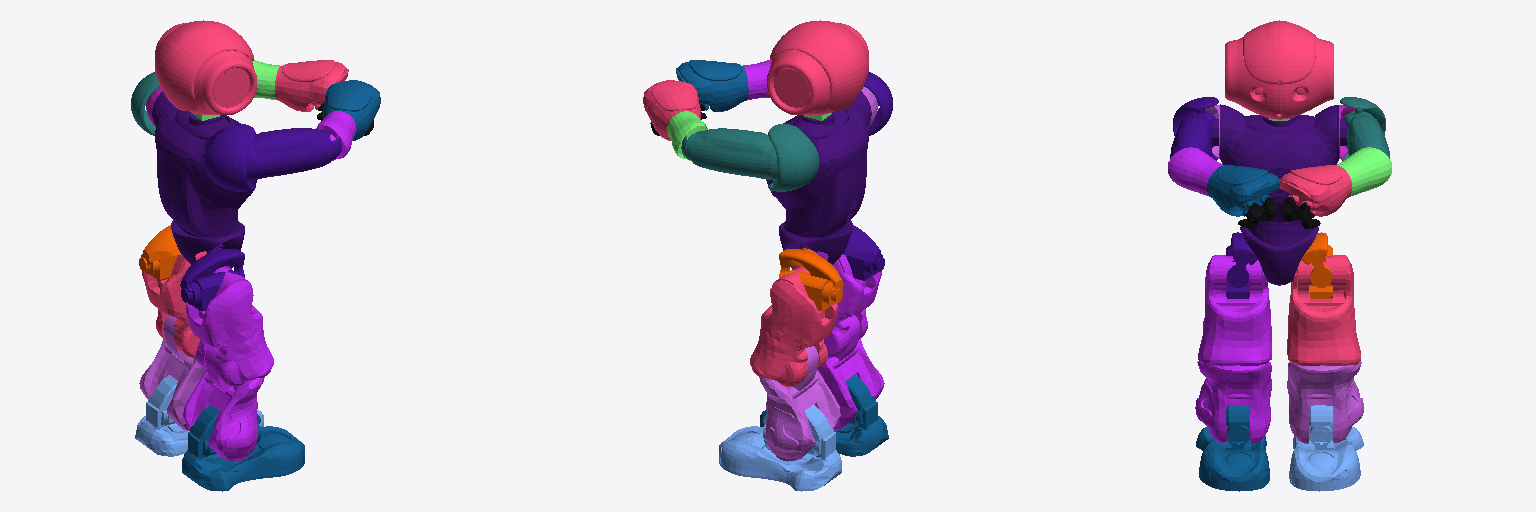
--- What the picture shows (computed from the rendered views, not written in the file) ---
3 views of the same robot in one strip: view 1: azimuth 30°, elevation 25°; view 2: azimuth 150°, elevation 25°; view 3: azimuth 270°, elevation 25° (orthographic).
Model NaoH25V50 with 79 links and 78 joints (42 revolute, 36 fixed), rooted at base_link, posed joints at zero except 2 at the middle of their limits (LElbowRoll = -0.7898, RElbowRoll = 0.7898).
Visible links, largest first — view 1: torso, Head, RBicep, RThigh, r_ankle, RTibia, LTibia, l_wrist, LThigh, r_wrist, l_ankle, RPelvis (+7 smaller); view 2: torso, Head, LBicep, LThigh, l_ankle, LTibia, RTibia, r_wrist, RThigh, l_wrist, r_ankle, LPelvis (+7 smaller); view 3: torso, Head, LThigh, RThigh, RTibia, LTibia, l_ankle, r_ankle, l_wrist, r_wrist, LBicep, RBicep (+5 smaller).
Boxes of the visible links, left/top/right/bottom form: torso: left=152, top=91, right=256, bottom=268; Head: left=155, top=20, right=256, bottom=114; RBicep: left=205, top=124, right=341, bottom=191; RThigh: left=186, top=266, right=273, bottom=386; r_ankle: left=182, top=424, right=304, bottom=491; RTibia: left=183, top=346, right=264, bottom=461; LTibia: left=139, top=315, right=205, bottom=430; l_wrist: left=275, top=60, right=348, bottom=111; LThigh: left=142, top=251, right=206, bottom=357; r_wrist: left=323, top=80, right=380, bottom=140; l_ankle: left=135, top=395, right=263, bottom=456; RPelvis: left=180, top=248, right=244, bottom=304; torso: left=766, top=91, right=871, bottom=268; Head: left=767, top=20, right=868, bottom=114; LBicep: left=681, top=124, right=819, bottom=191; LThigh: left=750, top=266, right=837, bottom=386; l_ankle: left=719, top=424, right=841, bottom=491; LTibia: left=759, top=346, right=840, bottom=461; RTibia: left=818, top=315, right=884, bottom=430; r_wrist: left=676, top=60, right=748, bottom=111; RThigh: left=817, top=251, right=881, bottom=357; l_wrist: left=643, top=80, right=700, bottom=140; r_ankle: left=760, top=396, right=888, bottom=456; LPelvis: left=779, top=248, right=843, bottom=304; torso: left=1212, top=104, right=1347, bottom=285; Head: left=1225, top=20, right=1333, bottom=119; LThigh: left=1287, top=255, right=1360, bottom=365; RThigh: left=1198, top=255, right=1271, bottom=365; RTibia: left=1195, top=361, right=1271, bottom=443; LTibia: left=1287, top=361, right=1363, bottom=443; l_ankle: left=1289, top=426, right=1363, bottom=491; r_ankle: left=1196, top=426, right=1269, bottom=491; l_wrist: left=1280, top=165, right=1352, bottom=216; r_wrist: left=1207, top=165, right=1279, bottom=216; LBicep: left=1340, top=97, right=1389, bottom=160; RBicep: left=1170, top=97, right=1218, bottom=160.
Size in the robot's own frame: 0.2792 by 0.2719 by 0.5738 metres.
Meshes: 39 distinct files referenced, 39 mesh visuals loaded (39 OBJ).

URDF robot description (NaoH25V50):
<?xml version="1.0" ?>
<!-- =================================================================================== -->
<!-- |    This document was autogenerated by xacro from nao_robot.xacro                | -->
<!-- |    EDITING THIS FILE BY HAND IS NOT RECOMMENDED                                 | -->
<!-- =================================================================================== -->
<!--******************************************************************
 ****** File automatically generated by generate_urdf.py script ******
 *********************************************************************-->
<robot name="NaoH25V50" xmlns:xacro="http://www.ros.org/wiki/xacro">
<!-- Import Rviz   <material name="Grey"/>
</visual>s -->
<material name="Grey">
  <color rgba="0.1 0.1 0.1 .4"/>
</material>
<material name="Orange">
  <color rgba="1.0 0.423529411765 0.0392156862745 1.0"/>
</material>
<material name="Blue">
<color rgba="0.5 0.7 1.0 1.0"/>
</material>

<material name="c1">
<color rgba="0.5 1.0 .5 1.0"/>
</material>

<material name="c2">
<color rgba="1 .3 .5 1.0"/>
</material>

<material name="c3">
<color rgba=".8 .4 .9 1.0"/>
</material>

<material name="c4">
<color rgba=".3 .1 .6 1.0"/>
</material>

<material name="c5">
<color rgba=".8 .2 1.0 1.0"/>
</material>


<material name="c6">
<color rgba=".1 .4 .6 1.0"/>
</material>

<material name="c7">
<color rgba=".3 .1 .5 1.0"/>
</material>

<material name="c8">
<color rgba=".8 .2 .8 1.0"/>
</material>

<material name="c9">
<color rgba=".2 .5 .5 1.0"/>
</material>
  <joint name="HeadYaw" type="revolute">
    <parent link="torso"/>
    <child link="Neck"/>
    <origin rpy="0 0 0" xyz="0 0 0.1265"/>
    <axis xyz="0 0 1.0"/>
    <limit effort="1.547" lower="-2.08567" upper="2.08567" velocity="8.26797"/>
  </joint>
  <link name="Neck">
    <inertial>
      <mass value="0.07842"/>
      <inertia ixx="1.60324e-05" ixy="1.57e-09" ixz="3.16276e-09" iyy="1.70394e-05" iyz="-5.295e-08" izz="5.53372e-06"/>
      <origin rpy="0 0 0" xyz="-1e-05 0 -0.02742"/>
    </inertial>
    <visual>
      <geometry>
        <mesh filename="meshes/HeadYaw.obj" scale="0.1 0.1 0.1"/>
      </geometry>
      <origin rpy="0 0 0" xyz="0 0 0"/>
      <material name="c1"/>
    </visual>
    <collision>
      <geometry>
        <mesh filename="meshes/HeadYaw.obj" scale="0.1 0.1 0.1"/>
      </geometry>
      <origin rpy="0 0 0" xyz="0 0 0"/>
    </collision>
  </link>
  <joint name="HeadPitch" type="revolute">
    <parent link="Neck"/>
    <child link="Head"/>
    <origin rpy="0 0 0" xyz="0 0 0"/>
    <axis xyz="0 1.0 0"/>
    <limit effort="1.532" lower="-0.671952" upper="0.514872" velocity="7.19407"/>
  </joint>
  <link name="Head">
    <inertial>
      <mass value="0.60533"/>
      <inertia ixx="0.000957766" ixy="8.78814e-06" ixz="5.33702e-06" iyy="0.000816836" iyz="-2.99579e-05" izz="0.000984976"/>
      <origin rpy="0 0 0" xyz="-0.00112 0 0.05258"/>
    </inertial>
    <visual>
      <geometry>
        <mesh filename="meshes/HeadPitch.obj" scale="0.1 0.1 0.1"/>
      </geometry>
      <origin rpy="0 0 0" xyz="0 0 0"/>
      <material name="c2"/>
    </visual>
    <collision>
      <geometry>
        <mesh filename="meshes/HeadPitch_0.10.stl" scale="0.1 0.1 0.1"/>
      </geometry>
      <origin rpy="0 0 0" xyz="0 0 0"/>
    </collision>
  </link>
  <joint name="gaze_joint" type="fixed">
    <parent link="Head"/>
    <child link="gaze"/>
    <origin rpy="0 0 0" xyz="0.05871 0 0.06364"/>
  </joint>
  <link name="gaze">
    <inertial>
      <mass value="0"/>
      <inertia ixx="0" ixy="0" ixz="0" iyy="0" iyz="0" izz="0"/>
      <origin rpy="0 0 0" xyz="0 0 0"/>
    </inertial>
  </link>
  <joint name="LHipYawPitch" type="revolute">
    <parent link="torso"/>
    <child link="LPelvis"/>
    <origin rpy="0 0 0" xyz="0 0.05 -0.085"/>
    <axis xyz="0 0.707106 -0.707106"/>
    <limit effort="3.348" lower="-1.14529" upper="0.740718" velocity="4.16174"/>
  </joint>
  <link name="LPelvis">
    <inertial>
      <mass value="0.06981"/>
      <inertia ixx="2.3407e-05" ixy="1.07922e-06" ixz="-1.76003e-06" iyy="4.76355e-05" iyz="2.76058e-06" izz="4.97021e-05"/>
      <origin rpy="0 0 0" xyz="-0.00781 -0.01114 0.02661"/>
    </inertial>
    <visual>
      <geometry>
        <mesh filename="meshes/LHipYawPitch.obj" scale="0.1 0.1 0.1"/>
      </geometry>
      <origin rpy="0 0 0" xyz="0 0 0"/>
      <material name="Orange"/>
    </visual>
    <collision>
      <geometry>
        <mesh filename="meshes/LHipYawPitch.obj" scale="0.1 0.1 0.1"/>
      </geometry>
      <origin rpy="0 0 0" xyz="0 0 0"/>
    </collision>
  </link>
  <joint name="LHipRoll" type="revolute">
    <parent link="LPelvis"/>
    <child link="LHip"/>
    <origin rpy="0 0 0" xyz="0 0 0"/>
    <axis xyz="1.0 0 0"/>
    <limit effort="3.348" lower="-0.379435" upper="0.79046" velocity="4.16174"/>
  </joint>
  <link name="LHip">
    <inertial>
      <mass value="0.14053"/>
      <inertia ixx="2.38445e-05" ixy="-6.53605e-07" ixz="7.12893e-06" iyy="6.08246e-05" iyz="-2.14072e-07" izz="5.43691e-05"/>
      <origin rpy="0 0 0" xyz="-0.01549 0.00029 -0.00515"/>
    </inertial>
    <visual>
      <geometry>
        <mesh filename="meshes/LHipRoll.obj" scale="0.1 0.1 0.1"/>
      </geometry>
      <origin rpy="0 0 0" xyz="0 0 0"/>
      <material name="Orange"/>
    </visual>
    <collision>
      <geometry>
        <mesh filename="meshes/LHipRoll_0.10.stl" scale="0.1 0.1 0.1"/>
      </geometry>
      <origin rpy="0 0 0" xyz="0 0 0"/>
    </collision>
  </link>
  <joint name="LHipPitch" type="revolute">
    <parent link="LHip"/>
    <child link="LThigh"/>
    <origin rpy="0 0 0" xyz="0 0 0"/>
    <axis xyz="0 1.0 0"/>
    <limit effort="3.023" lower="-1.53589" upper="0.48398" velocity="6.40239"/>
  </joint>
  <link name="LThigh">
    <inertial>
      <mass value="0.38968"/>
      <inertia ixx="0.000509844" ixy="2.11296e-06" ixz="5.64129e-05" iyy="0.000465358" iyz="-7.91029e-06" izz="0.000301098"/>
      <origin rpy="0 0 0" xyz="0.00138 0.00221 -0.05373"/>
    </inertial>
    <visual>
      <geometry>
        <mesh filename="meshes/LHipPitch.obj" scale="0.1 0.1 0.1"/>
      </geometry>
      <origin rpy="0 0 0" xyz="0 0 0"/>
      <material name="c2"/>
    </visual>
    <collision>
      <geometry>
        <mesh filename="meshes/LHipPitch_0.10.stl" scale="0.1 0.1 0.1"/>
      </geometry>
      <origin rpy="0 0 0" xyz="0 0 0"/>
    </collision>
  </link>
  <joint name="LKneePitch" type="revolute">
    <parent link="LThigh"/>
    <child link="LTibia"/>
    <origin rpy="0 0 0" xyz="0 0 -0.1"/>
    <axis xyz="0 1.0 0"/>
    <limit effort="3.023" lower="-0.0923279" upper="2.11255" velocity="6.40239"/>
  </joint>
  <link name="LTibia">
    <inertial>
      <mass value="0.30142"/>
      <inertia ixx="0.000446171" ixy="3.70584e-06" ixz="-3.09008e-05" iyy="0.000388084" iyz="6.01953e-06" izz="0.000185516"/>
      <origin rpy="0 0 0" xyz="0.00453 0.00225 -0.04936"/>
    </inertial>
    <visual>
      <geometry>
        <mesh filename="meshes/LKneePitch.obj" scale="0.1 0.1 0.1"/>
      </geometry>
      <origin rpy="0 0 0" xyz="0 0 0"/>
      <material name="c3"/>
    </visual>
    <collision>
      <geometry>
        <mesh filename="meshes/LKneePitch_0.10.stl" scale="0.1 0.1 0.1"/>
      </geometry>
      <origin rpy="0 0 0" xyz="0 0 0"/>
    </collision>
  </link>
  <joint name="LAnklePitch" type="revolute">
    <parent link="LTibia"/>
    <child link="LAnklePitch"/>
    <origin rpy="0 0 0" xyz="0 0 -0.1029"/>
    <axis xyz="0 1.0 0"/>
    <limit effort="3.023" lower="-1.18944" upper="0.922581" velocity="6.40239"/>
  </joint>
  <link name="LAnklePitch">
    <inertial>
      <mass value="0.13416"/>
      <inertia ixx="3.22034e-05" ixy="-8.83212e-09" ixz="4.27549e-06" iyy="6.7943e-05" iyz="2.84849e-07" izz="5.48269e-05"/>
      <origin rpy="0 0 0" xyz="0.00045 0.00029 0.00685"/>
    </inertial>
    <visual>
      <geometry>
        <mesh filename="meshes/LAnklePitch.obj" scale="0.1 0.1 0.1"/>
      </geometry>
      <origin rpy="0 0 0" xyz="0 0 0"/>
      <material name="Blue"/>
    </visual>
    <collision>
      <geometry>
        <mesh filename="meshes/LAnklePitch_0.10.stl" scale="0.1 0.1 0.1"/>
      </geometry>
      <origin rpy="0 0 0" xyz="0 0 0"/>
    </collision>
  </link>
  <joint name="LAnkleRoll" type="revolute">
    <parent link="LAnklePitch"/>
    <child link="l_ankle"/>
    <origin rpy="0 0 0" xyz="0 0 0"/>
    <axis xyz="1.0 0 0"/>
    <limit effort="3.348" lower="-0.397761" upper="0.768992" velocity="4.16174"/>
  </joint>
  <link name="l_ankle">
    <inertial>
      <mass value="0.17184"/>
      <inertia ixx="8.72911e-05" ixy="8.71925e-06" ixz="-2.10563e-06" iyy="0.000353024" iyz="3.73459e-07" izz="0.000412846"/>
      <origin rpy="0 0 0" xyz="0.02542 0.0033 -0.03239"/>
    </inertial>
    <visual>
      <geometry>
        <mesh filename="meshes/LAnkleRoll.obj" scale="0.1 0.1 0.1"/>
      </geometry>
      <origin rpy="0 0 0" xyz="0 0 0"/>
      <material name="Blue"/>
    </visual>
    <collision>
      <geometry>
        <mesh filename="meshes/LAnkleRoll_0.10.stl" scale="0.1 0.1 0.1"/>
      </geometry>
      <origin rpy="0 0 0" xyz="0 0 0"/>
    </collision>
  </link>
  <joint name="LLeg_effector_fixedjoint" type="fixed">
    <parent link="l_ankle"/>
    <child link="l_sole"/>
    <origin rpy="0 0 0" xyz="0 0 -0.04511"/>
    <axis xyz="0 0 0"/>
  </joint>
  <link name="l_sole">
    <inertial>
      <mass value="0"/>
      <inertia ixx="0" ixy="0" ixz="0" iyy="0" iyz="0" izz="0"/>
      <origin rpy="0 0 0" xyz="0 0 0"/>
    </inertial>
  </link>
  <joint name="RHipYawPitch" type="revolute">
    <parent link="torso"/>
    <child link="RPelvis"/>
    <origin rpy="0 0 0" xyz="0 -0.05 -0.085"/>
    <axis xyz="0 0.707106 0.707106"/>
    <limit effort="3.348" lower="-1.14529" upper="0.740718" velocity="4.16174"/>
    <mimic joint="LHipYawPitch" multiplier="1.0" offset="0"/>
  </joint>
  <link name="RPelvis">
    <inertial>
      <mass value="0.06981"/>
      <inertia ixx="3.18766e-05" ixy="-1.07152e-06" ixz="-1.77295e-06" iyy="5.18361e-05" iyz="-7.00664e-06" izz="5.39657e-05"/>
      <origin rpy="0 0 0" xyz="-0.00781 0.01114 0.02661"/>
    </inertial>
    <visual>
      <geometry>
        <mesh filename="meshes/RHipYawPitch.obj" scale="0.1 0.1 0.1"/>
      </geometry>
      <origin rpy="0 0 0" xyz="0 0 0"/>
      <material name="c4"/>
    </visual>
    <collision>
      <geometry>
        <mesh filename="meshes/RHipYawPitch_0.10.stl" scale="0.1 0.1 0.1"/>
      </geometry>
      <origin rpy="0 0 0" xyz="0 0 0"/>
    </collision>
  </link>
  <joint name="RHipRoll" type="revolute">
    <parent link="RPelvis"/>
    <child link="RHip"/>
    <origin rpy="0 0 0" xyz="0 0 0"/>
    <axis xyz="1.0 0 0"/>
    <limit effort="3.348" lower="-0.79046" upper="0.379435" velocity="4.16174"/>
  </joint>
  <link name="RHip">
    <inertial>
      <mass value="0.14053"/>
      <inertia ixx="2.38475e-05" ixy="6.12085e-07" ixz="7.10235e-06" iyy="6.0824e-05" iyz="2.12392e-07" izz="5.43727e-05"/>
      <origin rpy="0 0 0" xyz="-0.01549 -0.00029 -0.00515"/>
    </inertial>
    <visual>
      <geometry>
        <mesh filename="meshes/RHipRoll.obj" scale="0.1 0.1 0.1"/>
      </geometry>
      <origin rpy="0 0 0" xyz="0 0 0"/>
      <material name="c4"/>
    </visual>
    <collision>
      <geometry>
        <mesh filename="meshes/RHipRoll_0.10.stl" scale="0.1 0.1 0.1"/>
      </geometry>
      <origin rpy="0 0 0" xyz="0 0 0"/>
    </collision>
  </link>
  <joint name="RHipPitch" type="revolute">
    <parent link="RHip"/>
    <child link="RThigh"/>
    <origin rpy="0 0 0" xyz="0 0 0"/>
    <axis xyz="0 1.0 0"/>
    <limit effort="3.0226" lower="-1.53589" upper="0.48398" velocity="6.40239"/>
  </joint>
  <link name="RThigh">
    <inertial>
      <mass value="0.38968"/>
      <inertia ixx="0.000510607" ixy="-2.02799e-06" ixz="5.69893e-05" iyy="0.0004665" iyz="7.09563e-06" izz="0.000301333"/>
      <origin rpy="0 0 0" xyz="0.00138 -0.00221 -0.05373"/>
    </inertial>
    <visual>
      <geometry>
        <mesh filename="meshes/RHipPitch.obj" scale="0.1 0.1 0.1"/>
      </geometry>
      <origin rpy="0 0 0" xyz="0 0 0"/>
      <material name="c5"/>
    </visual>
    <collision>
      <geometry>
        <mesh filename="meshes/RHipPitch_0.10.stl" scale="0.1 0.1 0.1"/>
      </geometry>
      <origin rpy="0 0 0" xyz="0 0 0"/>
    </collision>
  </link>
  <joint name="RKneePitch" type="revolute">
    <parent link="RThigh"/>
    <child link="RTibia"/>
    <origin rpy="0 0 0" xyz="0 0 -0.1"/>
    <axis xyz="0 1.0 0"/>
    <limit effort="3.0226" lower="-0.0923279" upper="2.11255" velocity="6.40239"/>
  </joint>
  <link name="RTibia">
    <inertial>
      <mass value="0.30142"/>
      <inertia ixx="0.000446921" ixy="-3.96872e-06" ixz="-3.94009e-05" iyy="0.000387711" iyz="-5.00034e-06" izz="0.000183741"/>
      <origin rpy="0 0 0" xyz="0.00453 -0.00225 -0.04936"/>
    </inertial>
    <visual>
      <geometry>
        <mesh filename="meshes/RKneePitch.obj" scale="0.1 0.1 0.1"/>
      </geometry>
      <origin rpy="0 0 0" xyz="0 0 0"/>
      <material name="c5"/>
    </visual>
    <collision>
      <geometry>
        <mesh filename="meshes/RKneePitch_0.10.stl" scale="0.1 0.1 0.1"/>
      </geometry>
      <origin rpy="0 0 0" xyz="0 0 0"/>
    </collision>
  </link>
  <joint name="RAnklePitch" type="revolute">
    <parent link="RTibia"/>
    <child link="RAnklePitch"/>
    <origin rpy="0 0 0" xyz="0 0 -0.1029"/>
    <axis xyz="0 1.0 0"/>
    <limit effort="3.0226" lower="-1.1863" upper="0.932006" velocity="6.40239"/>
  </joint>
  <link name="RAnklePitch">
    <inertial>
      <mass value="0.13416"/>
      <inertia ixx="3.22017e-05" ixy="4.68321e-08" ixz="4.28821e-06" iyy="6.79885e-05" iyz="-2.71089e-07" izz="5.48747e-05"/>
      <origin rpy="0 0 0" xyz="0.00045 -0.00029 0.00685"/>
    </inertial>
    <visual>
      <geometry>
        <mesh filename="meshes/RAnklePitch.obj" scale="0.1 0.1 0.1"/>
      </geometry>
      <origin rpy="0 0 0" xyz="0 0 0"/>
      <material name="c6"/>
    </visual>
    <collision>
      <geometry>
        <mesh filename="meshes/RAnklePitch_0.10.stl" scale="0.1 0.1 0.1"/>
      </geometry>
      <origin rpy="0 0 0" xyz="0 0 0"/>
    </collision>
  </link>
  <joint name="RAnkleRoll" type="revolute">
    <parent link="RAnklePitch"/>
    <child link="r_ankle"/>
    <origin rpy="0 0 0" xyz="0 0 0"/>
    <axis xyz="1.0 0 0"/>
    <limit effort="3.348" lower="-0.768992" upper="0.397761" velocity="4.16174"/>
  </joint>
  <link name="r_ankle">
    <inertial>
      <mass value="0.17184"/>
      <inertia ixx="8.71513e-05" ixy="-8.53992e-06" ixz="-2.35184e-06" iyy="0.000352156" iyz="-4.81708e-07" izz="0.000412125"/>
      <origin rpy="0 0 0" xyz="0.02542 -0.0033 -0.03239"/>
    </inertial>
    <visual>
      <geometry>
        <mesh filename="meshes/RAnkleRoll.obj" scale="0.1 0.1 0.1"/>
      </geometry>
      <origin rpy="0 0 0" xyz="0 0 0"/>
      <material name="c6"/>
    </visual>
    <collision>
      <geometry>
        <mesh filename="meshes/RAnkleRoll_0.10.stl" scale="0.1 0.1 0.1"/>
      </geometry>
      <origin rpy="0 0 0" xyz="0 0 0"/>
    </collision>
  </link>
  <joint name="RLeg_effector_fixedjoint" type="fixed">
    <parent link="r_ankle"/>
    <child link="r_sole"/>
    <origin rpy="0 0 0" xyz="0 0 -0.04511"/>
    <axis xyz="0 0 0"/>
  </joint>
  <link name="r_sole">
    <inertial>
      <mass value="0"/>
      <inertia ixx="0" ixy="0" ixz="0" iyy="0" iyz="0" izz="0"/>
      <origin rpy="0 0 0" xyz="0 0 0"/>
    </inertial>
  </link>
  <link name="base_link">
    <inertial>
      <mass value="0.0000000001"/>
      <inertia ixx="0" ixy="0" ixz="0" iyy="0" iyz="0" izz="0"/>
      <origin rpy="0 0 0" xyz="0 0 0"/>
    </inertial>
  </link>
  <joint name="base_link_fixedjoint" type="fixed">
    <parent link="base_link"/>
    <child link="torso"/>
    <origin rpy="0 0 0" xyz="0 0 0"/>
    <axis xyz="0 0 0"/>
  </joint>
  <link name="torso">
    <inertial>
      <mass value="1.04956"/>
      <inertia ixx="0.00308361" ixy="1.43116e-05" ixz="-3.30211e-05" iyy="0.0028835" iyz="-2.70793e-05" izz="0.0015924"/>
      <origin rpy="0 0 0" xyz="-0.00413 0 0.04342"/>
    </inertial>
    <visual>
      <geometry>
        <mesh filename="meshes/Torso.obj" scale="0.1 0.1 0.1"/>
      </geometry>
      <origin rpy="0 0 0" xyz="0 0 0"/>
      <material name="c7"/>
    </visual>
    <collision>
      <geometry>
        <mesh filename="meshes/Torso_0.10.stl" scale="0.1 0.1 0.1"/>
      </geometry>
      <origin rpy="0 0 0" xyz="0 0 0"/>
    </collision>
  </link>
  <joint name="LShoulderPitch" type="revolute">
    <parent link="torso"/>
    <child link="LShoulder"/>
    <origin rpy="0 0 0" xyz="0 0.098 0.1"/>
    <axis xyz="0 1.0 0"/>
    <limit effort="1.329" lower="-2.08567" upper="2.08567" velocity="8.26797"/>
  </joint>
  <link name="LShoulder">
    <inertial>
      <mass value="0.09304"/>
      <inertia ixx="1.83025e-05" ixy="2.06011e-06" ixz="1.88776e-09" iyy="1.39005e-05" iyz="-3.66592e-07" izz="2.01862e-05"/>
      <origin rpy="0 0 0" xyz="-0.00165 -0.02663 0.00014"/>
    </inertial>
    <visual>
      <geometry>
        <mesh filename="meshes/LShoulderPitch.obj" scale="0.1 0.1 0.1"/>
      </geometry>
      <origin rpy="0 0 0" xyz="0 0 0"/>
      <material name="c8"/>
    </visual>
    <collision>
      <geometry>
        <mesh filename="meshes/LShoulderPitch_0.10.stl" scale="0.1 0.1 0.1"/>
      </geometry>
      <origin rpy="0 0 0" xyz="0 0 0"/>
    </collision>
  </link>
  <joint name="LShoulderRoll" type="revolute">
    <parent link="LShoulder"/>
    <child link="LBicep"/>
    <origin rpy="0 0 0" xyz="0 0 0"/>
    <axis xyz="0 0 1.0"/>
    <limit effort="1.7835" lower="-0.314159" upper="1.32645" velocity="7.19407"/>
  </joint>
  <link name="LBicep">
    <inertial>
      <mass value="0.15777"/>
      <inertia ixx="8.7181e-05" ixy="-2.53381e-05" ixz="-1.4213e-05" iyy="0.000274712" iyz="4.71439e-07" izz="0.000241812"/>
      <origin rpy="0 0 0" xyz="0.02455 0.00563 0.0033"/>
    </inertial>
    <visual>
      <geometry>
        <mesh filename="meshes/LShoulderRoll.obj" scale="0.1 0.1 0.1"/>
      </geometry>
      <origin rpy="0 0 0" xyz="0 0 0"/>
      <material name="c9"/>
    </visual>
    <collision>
      <geometry>
        <mesh filename="meshes/LShoulderRoll_0.10.stl" scale="0.1 0.1 0.1"/>
      </geometry>
      <origin rpy="0 0 0" xyz="0 0 0"/>
    </collision>
  </link>
  <joint name="LElbowYaw" type="revolute">
    <parent link="LBicep"/>
    <child link="LElbow"/>
    <origin rpy="0 0 0" xyz="0.105 0.015 0"/>
    <axis xyz="1.0 0 0"/>
    <limit effort="1.547" lower="-2.08567" upper="2.08567" velocity="8.26797"/>
  </joint>
  <link name="LElbow">
    <inertial>
      <mass value="0.06483"/>
      <inertia ixx="5.59588e-06" ixy="4.21e-09" ixz="2.92241e-07" iyy="2.66179e-05" iyz="-1.84e-09" izz="2.76294e-05"/>
      <origin rpy="0 0 0" xyz="-0.02744 0 -0.00014"/>
    </inertial>
  </link>
  <joint name="LElbowRoll" type="revolute">
    <parent link="LElbow"/>
    <child link="LForeArm"/>
    <origin rpy="0 0 0" xyz="0 0 0"/>
    <axis xyz="0 0 1.0"/>
    <limit effort="1.532" lower="-1.54462" upper="-0.0349066" velocity="7.19407"/>
  </joint>
  <link name="LForeArm">
    <inertial>
      <mass value="0.07761"/>
      <inertia ixx="2.46746e-05" ixy="3.23152e-06" ixz="1.58221e-06" iyy="3.83837e-05" iyz="1.39194e-07" izz="3.59708e-05"/>
      <origin rpy="0 0 0" xyz="0.02556 0.00281 0.00076"/>
    </inertial>
    <visual>
      <geometry>
        <mesh filename="meshes/LElbowRoll.obj" scale="0.1 0.1 0.1"/>
      </geometry>
      <origin rpy="0 0 0" xyz="0 0 0"/>
      <material name="c1"/>
    </visual>
    <collision>
      <geometry>
        <mesh filename="meshes/LElbowRoll_0.10.stl" scale="0.1 0.1 0.1"/>
      </geometry>
      <origin rpy="0 0 0" xyz="0 0 0"/>
    </collision>
  </link>
  <joint name="LWristYaw" type="revolute">
    <parent link="LForeArm"/>
    <child link="l_wrist"/>
    <origin rpy="0 0 0" xyz="0.05595 0 0"/>
    <axis xyz="1.0 0 0"/>
    <limit effort="0.4075" lower="-1.82387" upper="1.82387" velocity="24.6229"/>
  </joint>
  <link name="l_wrist">
    <inertial>
      <mass value="0.18533"/>
      <inertia ixx="6.86477e-05" ixy="1.15465e-07" ixz="-2.87254e-06" iyy="0.000135756" iyz="2.67539e-06" izz="0.000133228"/>
      <origin rpy="0 0 0" xyz="0.03434 -0.00088 0.00308"/>
    </inertial>
    <visual>
      <geometry>
        <mesh filename="meshes/LWristYaw.obj" scale="0.1 0.1 0.1"/>
      </geometry>
      <origin rpy="0 0 0" xyz="0 0 0"/>
      <material name="c2"/>
    </visual>
    <collision>
      <geometry>
        <mesh filename="meshes/LWristYaw_0.10.stl" scale="0.1 0.1 0.1"/>
      </geometry>
      <origin rpy="0 0 0" xyz="0 0 0"/>
    </collision>
  </link>
  <joint name="LHand" type="revolute">
    <parent link="l_wrist"/>
    <child link="l_gripper"/>
    <origin rpy="0 0 0" xyz="0.05775 0 -0.01231"/>
    <axis xyz="1.0 0 0"/>
    <limit effort="0.292" lower="0" upper="1.0" velocity="8.33"/>
  </joint>
  <link name="l_gripper">
    <inertial>
      <mass value="2e-06"/>
      <inertia ixx="1.1e-09" ixy="0" ixz="0" iyy="1.1e-09" iyz="0" izz="1.1e-09"/>
    </inertial>
  </link>
  <joint name="RShoulderPitch" type="revolute">
    <parent link="torso"/>
    <child link="RShoulder"/>
    <origin rpy="0 0 0" xyz="0 -0.098 0.1"/>
    <axis xyz="0 1.0 0"/>
    <limit effort="1.329" lower="-2.08567" upper="2.08567" velocity="8.26797"/>
  </joint>
  <link name="RShoulder">
    <inertial>
      <mass value="0.09304"/>
      <inertia ixx="1.83025e-05" ixy="-2.06011e-06" ixz="1.88776e-09" iyy="1.39005e-05" iyz="3.66592e-07" izz="2.01862e-05"/>
      <origin rpy="0 0 0" xyz="-0.00165 0.02663 0.00014"/>
    </inertial>
    <visual>
      <geometry>
        <mesh filename="meshes/RShoulderPitch.obj" scale="0.1 0.1 0.1"/>
      </geometry>
      <origin rpy="0 0 0" xyz="0 0 0"/>
      <material name="c3"/>
    </visual>
    <collision>
      <geometry>
        <mesh filename="meshes/RShoulderPitch_0.10.stl" scale="0.1 0.1 0.1"/>
      </geometry>
      <origin rpy="0 0 0" xyz="0 0 0"/>
    </collision>
  </link>
  <joint name="RShoulderRoll" type="revolute">
    <parent link="RShoulder"/>
    <child link="RBicep"/>
    <origin rpy="0 0 0" xyz="0 0 0"/>
    <axis xyz="0 0 1.0"/>
    <limit effort="1.783" lower="-1.32645" upper="0.314159" velocity="7.19407"/>
  </joint>
  <link name="RBicep">
    <inertial>
      <mass value="0.15777"/>
      <inertia ixx="0.000103401" ixy="5.48849e-05" ixz="-1.32643e-05" iyy="0.00027077" iyz="9.16707e-06" izz="0.000254529"/>
      <origin rpy="0 0 0" xyz="0.02455 -0.00563 0.0033"/>
    </inertial>
    <visual>
      <geometry>
        <mesh filename="meshes/RShoulderRoll.obj" scale="0.1 0.1 0.1"/>
      </geometry>
      <origin rpy="0 0 0" xyz="0 0 0"/>
      <material name="c4"/>
    </visual>
    <collision>
      <geometry>
        <mesh filename="meshes/RShoulderRoll_0.10.stl" scale="0.1 0.1 0.1"/>
      </geometry>
      <origin rpy="0 0 0" xyz="0 0 0"/>
    </collision>
  </link>
  <joint name="RElbowYaw" type="revolute">
    <parent link="RBicep"/>
    <child link="RElbow"/>
    <origin rpy="0 0 0" xyz="0.105 -0.015 0"/>
    <axis xyz="1.0 0 0"/>
    <limit effort="1.547" lower="-2.08567" upper="2.08567" velocity="8.26797"/>
  </joint>
  <link name="RElbow">
    <inertial>
      <mass value="0.06483"/>
      <inertia ixx="5.59588e-06" ixy="4.21e-09" ixz="2.92241e-07" iyy="2.66179e-05" iyz="-1.84e-09" izz="2.76294e-05"/>
      <origin rpy="0 0 0" xyz="-0.02744 0 -0.00014"/>
    </inertial>
  </link>
  <joint name="RElbowRoll" type="revolute">
    <parent link="RElbow"/>
    <child link="RForeArm"/>
    <origin rpy="0 0 0" xyz="0 0 0"/>
    <axis xyz="0 0 1.0"/>
    <limit effort="1.532" lower="0.0349066" upper="1.54462" velocity="7.19407"/>
  </joint>
  <link name="RForeArm">
    <inertial>
      <mass value="0.07761"/>
      <inertia ixx="2.47331e-05" ixy="-3.2418e-06" ixz="9.06451e-07" iyy="3.84719e-05" iyz="-1.38804e-07" izz="3.59319e-05"/>
      <origin rpy="0 0 0" xyz="0.02556 -0.00281 0.00076"/>
    </inertial>
    <visual>
      <geometry>
        <mesh filename="meshes/RElbowRoll.obj" scale="0.1 0.1 0.1"/>
      </geometry>
      <origin rpy="0 0 0" xyz="0 0 0"/>
      <material name="c5"/>
    </visual>
    <collision>
      <geometry>
        <mesh filename="meshes/RElbowRoll_0.10.stl" scale="0.1 0.1 0.1"/>
      </geometry>
      <origin rpy="0 0 0" xyz="0 0 0"/>
    </collision>
  </link>
  <joint name="RWristYaw" type="revolute">
    <parent link="RForeArm"/>
    <child link="r_wrist"/>
    <origin rpy="0 0 0" xyz="0.05595 0 0"/>
    <axis xyz="1.0 0 0"/>
    <limit effort="0.4075" lower="-1.82387" upper="1.82387" velocity="24.6229"/>
  </joint>
  <link name="r_wrist">
    <inertial>
      <mass value="0.18533"/>
      <inertia ixx="6.86477e-05" ixy="1.13165e-05" ixz="-2.87254e-06" iyy="0.000135756" iyz="3.68003e-06" izz="0.000133228"/>
      <origin rpy="0 0 0" xyz="0.03434 0.00088 0.00308"/>
    </inertial>
    <visual>
      <geometry>
        <mesh filename="meshes/RWristYaw.obj" scale="0.1 0.1 0.1"/>
      </geometry>
      <origin rpy="0 0 0" xyz="0 0 0"/>
      <material name="c6"/>
    </visual>
    <collision>
      <geometry>
        <mesh filename="meshes/RWristYaw_0.10.stl" scale="0.1 0.1 0.1"/>
      </geometry>
      <origin rpy="0 0 0" xyz="0 0 0"/>
    </collision>
  </link>
  <joint name="RHand" type="revolute">
    <parent link="r_wrist"/>
    <child link="r_gripper"/>
    <origin rpy="0 0 0" xyz="0.05775 0 -0.01213"/>
    <axis xyz="1.0 0 0"/>
    <limit effort="0.292" lower="0" upper="1.0" velocity="8.33"/>
  </joint>
  <link name="r_gripper">
    <inertial>
      <mass value="2e-06"/>
      <inertia ixx="1.1e-09" ixy="0" ixz="0" iyy="1.1e-09" iyz="0" izz="1.1e-09"/>
    </inertial>
  </link>
  <link name="LFootBumperRight_frame">
    <inertial>
      <mass value="0"/>
      <inertia ixx="0" ixy="0" ixz="0" iyy="0" iyz="0" izz="0"/>
      <origin rpy="0 0 0" xyz="0 0 0"/>
    </inertial>
  </link>
  <joint name="LFoot/Bumper/Right_sensor_fixedjoint" type="fixed">
    <parent link="l_ankle"/>
    <child link="LFootBumperRight_frame"/>
    <origin rpy="0 0 0" xyz="0.0876 -0.014 -0.0353"/>
    <axis xyz="0 0 0"/>
  </joint>
  <link name="RFsrRL_frame">
    <collision>
      <geometry>
        <box size="0.01 0.01 0.005"/>
      </geometry>
      <origin rpy="0 0 0" xyz="0 0 0"/>
    </collision>
    <inertial>
      <mass value="2e-06"/>
      <inertia ixx="1.1e-09" ixy="0" ixz="0" iyy="1.1e-09" iyz="0" izz="1.1e-09"/>
    </inertial>
  </link>
  <joint name="RFoot/FSR/RearLeft_sensor_fixedjoint" type="fixed">
    <parent link="r_ankle"/>
    <child link="RFsrRL_frame"/>
    <origin rpy="0 0 0" xyz="-0.03025 0.0191 -0.04511"/>
    <axis xyz="0 0 0"/>
  </joint>
  <link name="CameraBottom_optical_frame">
    <inertial>
      <mass value="0"/>
      <inertia ixx="0" ixy="0" ixz="0" iyy="0" iyz="0" izz="0"/>
      <origin rpy="0 0 0" xyz="0 0 0"/>
    </inertial>
  </link>
  <joint name="CameraBottom_optical_frame_fixedjoint" type="fixed">
    <parent link="CameraBottom_frame"/>
    <child link="CameraBottom_optical_frame"/>
    <origin rpy="-1.57079632679 0 -1.57079632679" xyz="0 0 0"/>
  </joint>
  <link name="RFsrRR_frame">
    <collision>
      <geometry>
        <box size="0.01 0.01 0.005"/>
      </geometry>
      <origin rpy="0 0 0" xyz="0 0 0"/>
    </collision>
    <inertial>
      <mass value="2e-06"/>
      <inertia ixx="1.1e-09" ixy="0" ixz="0" iyy="1.1e-09" iyz="0" izz="1.1e-09"/>
    </inertial>
  </link>
  <joint name="RFoot/FSR/RearRight_sensor_fixedjoint" type="fixed">
    <parent link="r_ankle"/>
    <child link="RFsrRR_frame"/>
    <origin rpy="0 0 0" xyz="-0.02965 -0.0299 -0.04511"/>
    <axis xyz="0 0 0"/>
  </joint>
  <link name="LFsrFR_frame">
    <collision>
      <geometry>
        <box size="0.01 0.01 0.005"/>
      </geometry>
      <origin rpy="0 0 0" xyz="0 0 0"/>
    </collision>
    <inertial>
      <mass value="2e-06"/>
      <inertia ixx="1.1e-09" ixy="0" ixz="0" iyy="1.1e-09" iyz="0" izz="1.1e-09"/>
    </inertial>
  </link>
  <joint name="LFoot/FSR/FrontRight_sensor_fixedjoint" type="fixed">
    <parent link="l_ankle"/>
    <child link="LFsrFR_frame"/>
    <origin rpy="0 0 0" xyz="0.07025 -0.0231 -0.04511"/>
    <axis xyz="0 0 0"/>
  </joint>
  <link name="LHandTouchLeft_frame">
    <inertial>
      <mass value="0"/>
      <inertia ixx="0" ixy="0" ixz="0" iyy="0" iyz="0" izz="0"/>
      <origin rpy="0 0 0" xyz="0 0 0"/>
    </inertial>
  </link>
  <joint name="LHand/Touch/Left_sensor_fixedjoint" type="fixed">
    <parent link="l_wrist"/>
    <child link="LHandTouchLeft_frame"/>
    <origin rpy="0 0 1.5708" xyz="0.032 0.025 0.003"/>
    <axis xyz="0 0 0"/>
  </joint>
  <link name="RFootBumperRight_frame">
    <inertial>
      <mass value="0"/>
      <inertia ixx="0" ixy="0" ixz="0" iyy="0" iyz="0" izz="0"/>
      <origin rpy="0 0 0" xyz="0 0 0"/>
    </inertial>
  </link>
  <joint name="RFoot/Bumper/Right_sensor_fixedjoint" type="fixed">
    <parent link="r_ankle"/>
    <child link="RFootBumperRight_frame"/>
    <origin rpy="0 0 0" xyz="0.0876 -0.019 -0.0353"/>
    <axis xyz="0 0 0"/>
  </joint>
  <link name="RFsrFR_frame">
    <collision>
      <geometry>
        <box size="0.01 0.01 0.005"/>
      </geometry>
      <origin rpy="0 0 0" xyz="0 0 0"/>
    </collision>
    <inertial>
      <mass value="2e-06"/>
      <inertia ixx="1.1e-09" ixy="0" ixz="0" iyy="1.1e-09" iyz="0" izz="1.1e-09"/>
    </inertial>
  </link>
  <joint name="RFoot/FSR/FrontRight_sensor_fixedjoint" type="fixed">
    <parent link="r_ankle"/>
    <child link="RFsrFR_frame"/>
    <origin rpy="0 0 0" xyz="0.07025 -0.0299 -0.04511"/>
    <axis xyz="0 0 0"/>
  </joint>
  <link name="LFsrRR_frame">
    <collision>
      <geometry>
        <box size="0.01 0.01 0.005"/>
      </geometry>
      <origin rpy="0 0 0" xyz="0 0 0"/>
    </collision>
    <inertial>
      <mass value="2e-06"/>
      <inertia ixx="1.1e-09" ixy="0" ixz="0" iyy="1.1e-09" iyz="0" izz="1.1e-09"/>
    </inertial>
  </link>
  <joint name="LFoot/FSR/RearRight_sensor_fixedjoint" type="fixed">
    <parent link="l_ankle"/>
    <child link="LFsrRR_frame"/>
    <origin rpy="0 0 0" xyz="-0.02965 -0.0191 -0.04511"/>
    <axis xyz="0 0 0"/>
  </joint>
  <link name="ImuTorsoAccelerometer_frame">
    <inertial>
      <mass value="0"/>
      <inertia ixx="0" ixy="0" ixz="0" iyy="0" iyz="0" izz="0"/>
      <origin rpy="0 0 0" xyz="0 0 0"/>
    </inertial>
  </link>
  <joint name="Accelerometer_sensor_fixedjoint" type="fixed">
    <parent link="torso"/>
    <child link="ImuTorsoAccelerometer_frame"/>
    <origin rpy="0 0 0" xyz="-0.008 0.00606 0.027"/>
    <axis xyz="0 0 0"/>
  </joint>
  <link name="HeadTouchFront_frame">
    <inertial>
      <mass value="0"/>
      <inertia ixx="0" ixy="0" ixz="0" iyy="0" iyz="0" izz="0"/>
      <origin rpy="0 0 0" xyz="0 0 0"/>
    </inertial>
  </link>
  <joint name="Head/Touch/Front_sensor_fixedjoint" type="fixed">
    <parent link="Head"/>
    <child link="HeadTouchFront_frame"/>
    <origin rpy="0 -1.1861 0" xyz="0.0312 0 0.1014"/>
    <axis xyz="0 0 0"/>
  </joint>
  <link name="RFootBumperLeft_frame">
    <inertial>
      <mass value="0"/>
      <inertia ixx="0" ixy="0" ixz="0" iyy="0" iyz="0" izz="0"/>
      <origin rpy="0 0 0" xyz="0 0 0"/>
    </inertial>
  </link>
  <joint name="RFoot/Bumper/Left_sensor_fixedjoint" type="fixed">
    <parent link="r_ankle"/>
    <child link="RFootBumperLeft_frame"/>
    <origin rpy="0 0 0" xyz="0.0876 0.014 -0.0353"/>
    <axis xyz="0 0 0"/>
  </joint>
  <link name="RSonar_frame">
    <inertial>
      <mass value="0"/>
      <inertia ixx="0" ixy="0" ixz="0" iyy="0" iyz="0" izz="0"/>
      <origin rpy="0 0 0" xyz="0 0 0"/>
    </inertial>
  </link>
  <joint name="Sonar/Right_sensor_fixedjoint" type="fixed">
    <parent link="torso"/>
    <child link="RSonar_frame"/>
    <origin rpy="0.00478508 0.0436497 -0.392441" xyz="0.00558253 -0.0192068 0.0623853"/>
    <axis xyz="0 0 0"/>
  </joint>
  <link name="RHandTouchRight_frame">
    <inertial>
      <mass value="0"/>
      <inertia ixx="0" ixy="0" ixz="0" iyy="0" iyz="0" izz="0"/>
      <origin rpy="0 0 0" xyz="0 0 0"/>
    </inertial>
  </link>
  <joint name="RHand/Touch/Right_sensor_fixedjoint" type="fixed">
    <parent link="r_wrist"/>
    <child link="RHandTouchRight_frame"/>
    <origin rpy="0 0 -1.5708" xyz="0.035 -0.025 0.0035"/>
    <axis xyz="0 0 0"/>
  </joint>
  <link name="RHandTouchBack_frame">
    <inertial>
      <mass value="0"/>
      <inertia ixx="0" ixy="0" ixz="0" iyy="0" iyz="0" izz="0"/>
      <origin rpy="0 0 0" xyz="0 0 0"/>
    </inertial>
  </link>
  <joint name="RHand/Touch/Back_sensor_fixedjoint" type="fixed">
    <parent link="r_wrist"/>
    <child link="RHandTouchBack_frame"/>
    <origin rpy="3.14159 -1.5708 3.14159" xyz="0.038 0 0.025"/>
    <axis xyz="0 0 0"/>
  </joint>
  <link name="RFsrFL_frame">
    <collision>
      <geometry>
        <box size="0.01 0.01 0.005"/>
      </geometry>
      <origin rpy="0 0 0" xyz="0 0 0"/>
    </collision>
    <inertial>
      <mass value="2e-06"/>
      <inertia ixx="1.1e-09" ixy="0" ixz="0" iyy="1.1e-09" iyz="0" izz="1.1e-09"/>
    </inertial>
  </link>
  <joint name="RFoot/FSR/FrontLeft_sensor_fixedjoint" type="fixed">
    <parent link="r_ankle"/>
    <child link="RFsrFL_frame"/>
    <origin rpy="0 0 0" xyz="0.07025 0.0231 -0.04511"/>
    <axis xyz="0 0 0"/>
  </joint>
  <link name="LSonar_frame">
    <inertial>
      <mass value="0"/>
      <inertia ixx="0" ixy="0" ixz="0" iyy="0" iyz="0" izz="0"/>
      <origin rpy="0 0 0" xyz="0 0 0"/>
    </inertial>
  </link>
  <joint name="Sonar/Left_sensor_fixedjoint" type="fixed">
    <parent link="torso"/>
    <child link="LSonar_frame"/>
    <origin rpy="-0.00478508 0.0436497 0.392441" xyz="0.00558253 0.0192068 0.0623853"/>
    <axis xyz="0 0 0"/>
  </joint>
  <link name="LFsrFL_frame">
    <collision>
      <geometry>
        <box size="0.01 0.01 0.005"/>
      </geometry>
      <origin rpy="0 0 0" xyz="0 0 0"/>
    </collision>
    <inertial>
      <mass value="2e-06"/>
      <inertia ixx="1.1e-09" ixy="0" ixz="0" iyy="1.1e-09" iyz="0" izz="1.1e-09"/>
    </inertial>
  </link>
  <joint name="LFoot/FSR/FrontLeft_sensor_fixedjoint" type="fixed">
    <parent link="l_ankle"/>
    <child link="LFsrFL_frame"/>
    <origin rpy="0 0 0" xyz="0.07025 0.0299 -0.04511"/>
    <axis xyz="0 0 0"/>
  </joint>
  <link name="LFsrRL_frame">
    <collision>
      <geometry>
        <box size="0.01 0.01 0.005"/>
      </geometry>
      <origin rpy="0 0 0" xyz="0 0 0"/>
    </collision>
    <inertial>
      <mass value="2e-06"/>
      <inertia ixx="1.1e-09" ixy="0" ixz="0" iyy="1.1e-09" iyz="0" izz="1.1e-09"/>
    </inertial>
  </link>
  <joint name="LFoot/FSR/RearLeft_sensor_fixedjoint" type="fixed">
    <parent link="l_ankle"/>
    <child link="LFsrRL_frame"/>
    <origin rpy="0 0 0" xyz="-0.03025 0.0299 -0.04511"/>
    <axis xyz="0 0 0"/>
  </joint>
  <link name="RHandTouchLeft_frame">
    <inertial>
      <mass value="0"/>
      <inertia ixx="0" ixy="0" ixz="0" iyy="0" iyz="0" izz="0"/>
      <origin rpy="0 0 0" xyz="0 0 0"/>
    </inertial>
  </link>
  <joint name="RHand/Touch/Left_sensor_fixedjoint" type="fixed">
    <parent link="r_wrist"/>
    <child link="RHandTouchLeft_frame"/>
    <origin rpy="0 0 1.5708" xyz="0.032 0.025 0.003"/>
    <axis xyz="0 0 0"/>
  </joint>
  <link name="CameraBottom_frame">
    <inertial>
      <mass value="0"/>
      <inertia ixx="0" ixy="0" ixz="0" iyy="0" iyz="0" izz="0"/>
      <origin rpy="0 0 0" xyz="0 0 0"/>
    </inertial>
  </link>
  <joint name="CameraBottom_sensor_fixedjoint" type="fixed">
    <parent link="Head"/>
    <child link="CameraBottom_frame"/>
    <origin rpy="0 0.692896 0" xyz="0.05071 0 0.01774"/>
    <axis xyz="0 0 0"/>
  </joint>
  <link name="CameraTop_frame">
    <inertial>
      <mass value="0"/>
      <inertia ixx="0" ixy="0" ixz="0" iyy="0" iyz="0" izz="0"/>
      <origin rpy="0 0 0" xyz="0 0 0"/>
    </inertial>
  </link>
  <joint name="CameraTop_sensor_fixedjoint" type="fixed">
    <parent link="Head"/>
    <child link="CameraTop_frame"/>
    <origin rpy="0 0.0209435 0" xyz="0.05871 0 0.06364"/>
    <axis xyz="0 0 0"/>
  </joint>
  <link name="CameraTop_optical_frame">
    <inertial>
      <mass value="0"/>
      <inertia ixx="0" ixy="0" ixz="0" iyy="0" iyz="0" izz="0"/>
      <origin rpy="0 0 0" xyz="0 0 0"/>
    </inertial>
  </link>
  <joint name="CameraTop_optical_frame_fixedjoint" type="fixed">
    <parent link="CameraTop_frame"/>
    <child link="CameraTop_optical_frame"/>
    <origin rpy="-1.57079632679 0 -1.57079632679" xyz="0 0 0"/>
  </joint>
  <link name="LHandTouchBack_frame">
    <inertial>
      <mass value="0"/>
      <inertia ixx="0" ixy="0" ixz="0" iyy="0" iyz="0" izz="0"/>
      <origin rpy="0 0 0" xyz="0 0 0"/>
    </inertial>
  </link>
  <joint name="LHand/Touch/Back_sensor_fixedjoint" type="fixed">
    <parent link="l_wrist"/>
    <child link="LHandTouchBack_frame"/>
    <origin rpy="3.14159 -1.5708 3.14159" xyz="0.038 0 0.025"/>
    <axis xyz="0 0 0"/>
  </joint>
  <link name="LInfraRed_frame">
    <inertial>
      <mass value="0"/>
      <inertia ixx="0" ixy="0" ixz="0" iyy="0" iyz="0" izz="0"/>
      <origin rpy="0 0 0" xyz="0 0 0"/>
    </inertial>
  </link>
  <joint name="InfraredL_sensor_fixedjoint" type="fixed">
    <parent link="Head"/>
    <child link="LInfraRed_frame"/>
    <origin rpy="0 0 0" xyz="0.0441 0.0257 0.0466"/>
    <axis xyz="0 0 0"/>
  </joint>
  <link name="ImuTorsoGyrometer_frame">
    <inertial>
      <mass value="0"/>
      <inertia ixx="0" ixy="0" ixz="0" iyy="0" iyz="0" izz="0"/>
      <origin rpy="0 0 0" xyz="0 0 0"/>
    </inertial>
  </link>
  <joint name="Gyrometer_sensor_fixedjoint" type="fixed">
    <parent link="torso"/>
    <child link="ImuTorsoGyrometer_frame"/>
    <origin rpy="0 0 0" xyz="-0.008 0.006 0.029"/>
    <axis xyz="0 0 0"/>
  </joint>
  <link name="HeadTouchRear_frame">
    <inertial>
      <mass value="0"/>
      <inertia ixx="0" ixy="0" ixz="0" iyy="0" iyz="0" izz="0"/>
      <origin rpy="0 0 0" xyz="0 0 0"/>
    </inertial>
  </link>
  <joint name="Head/Touch/Rear_sensor_fixedjoint" type="fixed">
    <parent link="Head"/>
    <child link="HeadTouchRear_frame"/>
    <origin rpy="3.14159 -1.33319 -3.14159" xyz="-0.0257 0 0.1045"/>
    <axis xyz="0 0 0"/>
  </joint>
  <link name="HeadTouchMiddle_frame">
    <inertial>
      <mass value="0"/>
      <inertia ixx="0" ixy="0" ixz="0" iyy="0" iyz="0" izz="0"/>
      <origin rpy="0 0 0" xyz="0 0 0"/>
    </inertial>
  </link>
  <joint name="Head/Touch/Middle_sensor_fixedjoint" type="fixed">
    <parent link="Head"/>
    <child link="HeadTouchMiddle_frame"/>
    <origin rpy="3.14159 -1.57079 -3.14159" xyz="0.001 0 0.1099"/>
    <axis xyz="0 0 0"/>
  </joint>
  <link name="RInfraRed_frame">
    <inertial>
      <mass value="0"/>
      <inertia ixx="0" ixy="0" ixz="0" iyy="0" iyz="0" izz="0"/>
      <origin rpy="0 0 0" xyz="0 0 0"/>
    </inertial>
  </link>
  <joint name="InfraredR_sensor_fixedjoint" type="fixed">
    <parent link="Head"/>
    <child link="RInfraRed_frame"/>
    <origin rpy="0 0 0" xyz="0.0441 -0.0257 0.0466"/>
    <axis xyz="0 0 0"/>
  </joint>
  <link name="ChestButton_frame">
    <inertial>
      <mass value="0"/>
      <inertia ixx="0" ixy="0" ixz="0" iyy="0" iyz="0" izz="0"/>
      <origin rpy="0 0 0" xyz="0 0 0"/>
    </inertial>
  </link>
  <joint name="ChestBoard/Button_sensor_fixedjoint" type="fixed">
    <parent link="torso"/>
    <child link="ChestButton_frame"/>
    <origin rpy="0 0 0" xyz="0.049871 0.001588 0.055163"/>
    <axis xyz="0 0 0"/>
  </joint>
  <link name="LFootBumperLeft_frame">
    <inertial>
      <mass value="0"/>
      <inertia ixx="0" ixy="0" ixz="0" iyy="0" iyz="0" izz="0"/>
      <origin rpy="0 0 0" xyz="0 0 0"/>
    </inertial>
  </link>
  <joint name="LFoot/Bumper/Left_sensor_fixedjoint" type="fixed">
    <parent link="l_ankle"/>
    <child link="LFootBumperLeft_frame"/>
    <origin rpy="0 0 0" xyz="0.0876 0.019 -0.0353"/>
    <axis xyz="0 0 0"/>
  </joint>
  <link name="LHandTouchRight_frame">
    <inertial>
      <mass value="0"/>
      <inertia ixx="0" ixy="0" ixz="0" iyy="0" iyz="0" izz="0"/>
      <origin rpy="0 0 0" xyz="0 0 0"/>
    </inertial>
  </link>
  <joint name="LHand/Touch/Right_sensor_fixedjoint" type="fixed">
    <parent link="l_wrist"/>
    <child link="LHandTouchRight_frame"/>
    <origin rpy="0 0 -1.5708" xyz="0.035 -0.025 0.0035"/>
    <axis xyz="0 0 0"/>
  </joint>
  <link name="RFinger13_link">
    <inertial>
      <mass value="2e-06"/>
      <inertia ixx="1.1e-09" ixy="0" ixz="0" iyy="1.1e-09" iyz="0" izz="1.1e-09"/>
      <origin rpy="-1.57 0 0" xyz="0 0 0"/>
    </inertial>
    <visual>
      <geometry>
        <mesh filename="meshes/RFinger13.obj" scale="0.1 0.1 0.1"/>
      </geometry>
      <origin rpy="-1.57 0 0" xyz="0 0 0"/>
      <material name="Grey"/>
    </visual>
    <collision>
      <geometry>
        <mesh filename="meshes/RFinger13_0.10.stl" scale="0.1 0.1 0.1"/>
      </geometry>
      <origin rpy="-1.57 0 0" xyz="0 0 0"/>
    </collision>
  </link>
  <joint name="RFinger13" type="revolute">
    <parent link="RFinger12_link"/>
    <child link="RFinger13_link"/>
    <origin rpy="0 0 -0.999899" xyz="0.01436 0 0"/>
    <axis xyz="0 0 1.0"/>
    <mimic joint="RHand" multiplier="0.999899" offset="0"/>
    <limit effort="0.144" lower="0.0" upper="0.999899" velocity="12.56"/>
  </joint>
  <link name="RFinger12_link">
    <inertial>
      <mass value="2e-06"/>
      <inertia ixx="1.1e-09" ixy="0" ixz="0" iyy="1.1e-09" iyz="0" izz="1.1e-09"/>
      <origin rpy="-1.57 0 0" xyz="0 0 0"/>
    </inertial>
    <visual>
      <geometry>
        <mesh filename="meshes/RFinger12.obj" scale="0.1 0.1 0.1"/>
      </geometry>
      <origin rpy="-1.57 0 0" xyz="0 0 0"/>
      <material name="Grey"/>
    </visual>
    <collision>
      <geometry>
        <mesh filename="meshes/RFinger12_0.10.stl" scale="0.1 0.1 0.1"/>
      </geometry>
      <origin rpy="-1.57 0 0" xyz="0 0 0"/>
    </collision>
  </link>
  <joint name="RFinger12" type="revolute">
    <parent link="RFinger11_link"/>
    <child link="RFinger12_link"/>
    <origin rpy="0 0 -0.999899" xyz="0.01436 0 0"/>
    <axis xyz="0 0 1.0"/>
    <mimic joint="RHand" multiplier="0.999899" offset="0"/>
    <limit effort="0.144" lower="0.0" upper="0.999899" velocity="12.56"/>
  </joint>
  <link name="LFinger21_link">
    <inertial>
      <mass value="2e-06"/>
      <inertia ixx="1.1e-09" ixy="0" ixz="0" iyy="1.1e-09" iyz="0" izz="1.1e-09"/>
      <origin rpy="-1.57 0 0" xyz="0 0 0"/>
    </inertial>
    <visual>
      <geometry>
        <mesh filename="meshes/LFinger21.obj" scale="0.1 0.1 0.1"/>
      </geometry>
      <origin rpy="-1.57 0 0" xyz="0 0 0"/>
      <material name="Grey"/>
    </visual>
    <collision>
      <geometry>
        <mesh filename="meshes/LFinger21_0.10.stl" scale="0.1 0.1 0.1"/>
      </geometry>
      <origin rpy="-1.57 0 0" xyz="0 0 0"/>
    </collision>
  </link>
  <joint name="LFinger21" type="revolute">
    <parent link="l_wrist"/>
    <child link="LFinger21_link"/>
    <origin rpy="1.25539 0.976662 -0.264067" xyz="0.06907 -0.01157 -0.00304"/>
    <axis xyz="0 0 1.0"/>
    <mimic joint="LHand" multiplier="0.999899" offset="0"/>
    <limit effort="0.144" lower="0.0" upper="0.999899" velocity="12.56"/>
  </joint>
  <link name="LFinger13_link">
    <inertial>
      <mass value="2e-06"/>
      <inertia ixx="1.1e-09" ixy="0" ixz="0" iyy="1.1e-09" iyz="0" izz="1.1e-09"/>
      <origin rpy="-1.57 0 0" xyz="0 0 0"/>
    </inertial>
    <visual>
      <geometry>
        <mesh filename="meshes/LFinger13.obj" scale="0.1 0.1 0.1"/>
      </geometry>
      <origin rpy="-1.57 0 0" xyz="0 0 0"/>
      <material name="Grey"/>
    </visual>
    <collision>
      <geometry>
        <mesh filename="meshes/LFinger13_0.10.stl" scale="0.1 0.1 0.1"/>
      </geometry>
      <origin rpy="-1.57 0 0" xyz="0 0 0"/>
    </collision>
  </link>
  <joint name="LFinger13" type="revolute">
    <parent link="LFinger12_link"/>
    <child link="LFinger13_link"/>
    <origin rpy="0 0 -0.999899" xyz="0.01436 0 0"/>
    <axis xyz="0 0 1.0"/>
    <mimic joint="LHand" multiplier="0.999899" offset="0"/>
    <limit effort="0.144" lower="0.0" upper="0.999899" velocity="12.56"/>
  </joint>
  <link name="LFinger11_link">
    <inertial>
      <mass value="2e-06"/>
      <inertia ixx="1.1e-09" ixy="0" ixz="0" iyy="1.1e-09" iyz="0" izz="1.1e-09"/>
      <origin rpy="-1.57 0 0" xyz="0 0 0"/>
    </inertial>
    <visual>
      <geometry>
        <mesh filename="meshes/LFinger11.obj" scale="0.1 0.1 0.1"/>
      </geometry>
      <origin rpy="-1.57 0 0" xyz="0 0 0"/>
      <material name="Grey"/>
    </visual>
    <collision>
      <geometry>
        <mesh filename="meshes/LFinger11_0.10.stl" scale="0.1 0.1 0.1"/>
      </geometry>
      <origin rpy="-1.57 0 0" xyz="0 0 0"/>
    </collision>
  </link>
  <joint name="LFinger11" type="revolute">
    <parent link="l_wrist"/>
    <child link="LFinger11_link"/>
    <origin rpy="1.8862 0.976662 0.264067" xyz="0.06907 0.01157 -0.00304"/>
    <axis xyz="0 0 1.0"/>
    <mimic joint="LHand" multiplier="0.999899" offset="0"/>
    <limit effort="0.144" lower="0.0" upper="0.999899" velocity="12.56"/>
  </joint>
  <link name="RFinger22_link">
    <inertial>
      <mass value="2e-06"/>
      <inertia ixx="1.1e-09" ixy="0" ixz="0" iyy="1.1e-09" iyz="0" izz="1.1e-09"/>
      <origin rpy="-1.57 0 0" xyz="0 0 0"/>
    </inertial>
    <visual>
      <geometry>
        <mesh filename="meshes/RFinger22.obj" scale="0.1 0.1 0.1"/>
      </geometry>
      <origin rpy="-1.57 0 0" xyz="0 0 0"/>
      <material name="Grey"/>
    </visual>
    <collision>
      <geometry>
        <mesh filename="meshes/RFinger22_0.10.stl" scale="0.1 0.1 0.1"/>
      </geometry>
      <origin rpy="-1.57 0 0" xyz="0 0 0"/>
    </collision>
  </link>
  <joint name="RFinger22" type="revolute">
    <parent link="RFinger21_link"/>
    <child link="RFinger22_link"/>
    <origin rpy="0 0 -0.999899" xyz="0.01436 0 0"/>
    <axis xyz="0 0 1.0"/>
    <mimic joint="RHand" multiplier="0.999899" offset="0"/>
    <limit effort="0.144" lower="0.0" upper="0.999899" velocity="12.56"/>
  </joint>
  <link name="LFinger22_link">
    <inertial>
      <mass value="2e-06"/>
      <inertia ixx="1.1e-09" ixy="0" ixz="0" iyy="1.1e-09" iyz="0" izz="1.1e-09"/>
      <origin rpy="-1.57 0 0" xyz="0 0 0"/>
    </inertial>
    <visual>
      <geometry>
        <mesh filename="meshes/LFinger22.obj" scale="0.1 0.1 0.1"/>
      </geometry>
      <origin rpy="-1.57 0 0" xyz="0 0 0"/>
      <material name="Grey"/>
    </visual>
    <collision>
      <geometry>
        <mesh filename="meshes/LFinger22_0.10.stl" scale="0.1 0.1 0.1"/>
      </geometry>
      <origin rpy="-1.57 0 0" xyz="0 0 0"/>
    </collision>
  </link>
  <joint name="LFinger22" type="revolute">
    <parent link="LFinger21_link"/>
    <child link="LFinger22_link"/>
    <origin rpy="0 0 -0.999899" xyz="0.01436 0 0"/>
    <axis xyz="0 0 1.0"/>
    <mimic joint="LHand" multiplier="0.999899" offset="0"/>
    <limit effort="0.144" lower="0.0" upper="0.999899" velocity="12.56"/>
  </joint>
  <link name="RFinger21_link">
    <inertial>
      <mass value="2e-06"/>
      <inertia ixx="1.1e-09" ixy="0" ixz="0" iyy="1.1e-09" iyz="0" izz="1.1e-09"/>
      <origin rpy="-1.57 0 0" xyz="0 0 0"/>
    </inertial>
    <visual>
      <geometry>
        <mesh filename="meshes/RFinger21.obj" scale="0.1 0.1 0.1"/>
      </geometry>
      <origin rpy="-1.57 0 0" xyz="0 0 0"/>
      <material name="Grey"/>
    </visual>
    <collision>
      <geometry>
        <mesh filename="meshes/RFinger21_0.10.stl" scale="0.1 0.1 0.1"/>
      </geometry>
      <origin rpy="-1.57 0 0" xyz="0 0 0"/>
    </collision>
  </link>
  <joint name="RFinger21" type="revolute">
    <parent link="r_wrist"/>
    <child link="RFinger21_link"/>
    <origin rpy="1.25539 0.976662 -0.264067" xyz="0.06907 -0.01157 -0.00304"/>
    <axis xyz="0 0 1.0"/>
    <mimic joint="RHand" multiplier="0.999899" offset="0"/>
    <limit effort="0.144" lower="0.0" upper="0.999899" velocity="12.56"/>
  </joint>
  <link name="LFinger12_link">
    <inertial>
      <mass value="2e-06"/>
      <inertia ixx="1.1e-09" ixy="0" ixz="0" iyy="1.1e-09" iyz="0" izz="1.1e-09"/>
      <origin rpy="-1.57 0 0" xyz="0 0 0"/>
    </inertial>
    <visual>
      <geometry>
        <mesh filename="meshes/LFinger12.obj" scale="0.1 0.1 0.1"/>
      </geometry>
      <origin rpy="-1.57 0 0" xyz="0 0 0"/>
      <material name="Grey"/>
    </visual>
    <collision>
      <geometry>
        <mesh filename="meshes/LFinger12_0.10.stl" scale="0.1 0.1 0.1"/>
      </geometry>
      <origin rpy="-1.57 0 0" xyz="0 0 0"/>
    </collision>
  </link>
  <joint name="LFinger12" type="revolute">
    <parent link="LFinger11_link"/>
    <child link="LFinger12_link"/>
    <origin rpy="0 0 -0.999899" xyz="0.01436 0 0"/>
    <axis xyz="0 0 1.0"/>
    <mimic joint="LHand" multiplier="0.999899" offset="0"/>
    <limit effort="0.144" lower="0.0" upper="0.999899" velocity="12.56"/>
  </joint>
  <link name="RFinger23_link">
    <inertial>
      <mass value="2e-06"/>
      <inertia ixx="1.1e-09" ixy="0" ixz="0" iyy="1.1e-09" iyz="0" izz="1.1e-09"/>
      <origin rpy="-1.57 0 0" xyz="0 0 0"/>
    </inertial>
    <visual>
      <geometry>
        <mesh filename="meshes/RFinger23.obj" scale="0.1 0.1 0.1"/>
      </geometry>
      <origin rpy="-1.57 0 0" xyz="0 0 0"/>
      <material name="Grey"/>
    </visual>
    <collision>
      <geometry>
        <mesh filename="meshes/RFinger23_0.10.stl" scale="0.1 0.1 0.1"/>
      </geometry>
      <origin rpy="-1.57 0 0" xyz="0 0 0"/>
    </collision>
  </link>
  <joint name="RFinger23" type="revolute">
    <parent link="RFinger22_link"/>
    <child link="RFinger23_link"/>
    <origin rpy="0 0 -0.999899" xyz="0.01436 0 0"/>
    <axis xyz="0 0 1.0"/>
    <mimic joint="RHand" multiplier="0.999899" offset="0"/>
    <limit effort="0.144" lower="0.0" upper="0.999899" velocity="12.56"/>
  </joint>
  <link name="RFinger11_link">
    <inertial>
      <mass value="2e-06"/>
      <inertia ixx="1.1e-09" ixy="0" ixz="0" iyy="1.1e-09" iyz="0" izz="1.1e-09"/>
      <origin rpy="-1.57 0 0" xyz="0 0 0"/>
    </inertial>
    <visual>
      <geometry>
        <mesh filename="meshes/RFinger11.obj" scale="0.1 0.1 0.1"/>
      </geometry>
      <origin rpy="-1.57 0 0" xyz="0 0 0"/>
      <material name="Grey"/>
    </visual>
    <collision>
      <geometry>
        <mesh filename="meshes/RFinger11_0.10.stl" scale="0.1 0.1 0.1"/>
      </geometry>
      <origin rpy="-1.57 0 0" xyz="0 0 0"/>
    </collision>
  </link>
  <joint name="RFinger11" type="revolute">
    <parent link="r_wrist"/>
    <child link="RFinger11_link"/>
    <origin rpy="1.8862 0.976662 0.264067" xyz="0.06907 0.01157 -0.00304"/>
    <axis xyz="0 0 1.0"/>
    <mimic joint="RHand" multiplier="0.999899" offset="0"/>
    <limit effort="0.144" lower="0.0" upper="0.999899" velocity="12.56"/>
  </joint>
  <link name="LFinger23_link">
    <inertial>
      <mass value="2e-06"/>
      <inertia ixx="1.1e-09" ixy="0" ixz="0" iyy="1.1e-09" iyz="0" izz="1.1e-09"/>
      <origin rpy="-1.57 0 0" xyz="0 0 0"/>
    </inertial>
    <visual>
      <geometry>
        <mesh filename="meshes/LFinger23.obj" scale="0.1 0.1 0.1"/>
      </geometry>
      <origin rpy="-1.57 0 0" xyz="0 0 0"/>
      <material name="Grey"/>
    </visual>
    <collision>
      <geometry>
        <mesh filename="meshes/LFinger23_0.10.stl" scale="0.1 0.1 0.1"/>
      </geometry>
      <origin rpy="-1.57 0 0" xyz="0 0 0"/>
    </collision>
  </link>
  <joint name="LFinger23" type="revolute">
    <parent link="LFinger22_link"/>
    <child link="LFinger23_link"/>
    <origin rpy="0 0 -0.999899" xyz="0.01436 0 0"/>
    <axis xyz="0 0 1.0"/>
    <mimic joint="LHand" multiplier="0.999899" offset="0"/>
    <limit effort="0.144" lower="0.0" upper="0.999899" velocity="12.56"/>
  </joint>
  <link name="LThumb1_link">
    <inertial>
      <mass value="2e-06"/>
      <inertia ixx="1.1e-09" ixy="0" ixz="0" iyy="1.1e-09" iyz="0" izz="1.1e-09"/>
      <origin rpy="1.57 0 -0.999899" xyz="0 0 0"/>
    </inertial>
    <visual>
      <geometry>
        <mesh filename="meshes/LThumb1.obj" scale="0.1 0.1 0.1"/>
      </geometry>
      <!-- <origin rpy="0 0 0" xyz="0 0 0"/> -->
      <origin rpy="1.57 0 -0.999899" xyz="0 0 0"/>
      <material name="Grey"/>
    </visual>
    <collision>
      <geometry>
        <mesh filename="meshes/LThumb1_0.10.stl" scale="0.1 0.1 0.1"/>
      </geometry>
      <!-- <origin rpy="0 0 0" xyz="0 0 0"/> -->
      <origin rpy="1.57 0 -0.999899" xyz="0 0 0"/>
    </collision>
  </link>
  <joint name="LThumb1" type="revolute">
    <parent link="l_wrist"/>
    <child link="LThumb1_link"/>
    <origin rpy="-1.5708 0.0472984 -3.26826e-08" xyz="0.04895 0 -0.02638"/>
    <axis xyz="0 0 1.0"/>
    <mimic joint="LHand" multiplier="0.999899" offset="0"/>
    <limit effort="0.144" lower="0.0" upper="0.999899" velocity="12.56"/>
  </joint>
  <link name="RThumb1_link">
    <inertial>
      <mass value="2e-06"/>
      <inertia ixx="1.1e-09" ixy="0" ixz="0" iyy="1.1e-09" iyz="0" izz="1.1e-09"/>
      <origin rpy="1.57 0 -0.999899" xyz="0 0 0"/>
    </inertial>
    <visual>
      <geometry>
        <mesh filename="meshes/RThumb1.obj" scale="0.1 0.1 0.1"/>
      </geometry>
      <!-- <origin rpy="0 0 0" xyz="0 0 0"/> -->
      <origin rpy="1.57 0 -0.999899" xyz="0 0 0"/>
      <material name="Grey"/>
    </visual>
    <collision>
      <geometry>
        <mesh filename="meshes/RThumb1_0.10.stl" scale="0.1 0.1 0.1"/>
      </geometry>
      <!-- <origin rpy="0 0 0" xyz="0 0 0"/> -->
      <origin rpy="1.57 0 -0.999899" xyz="0 0 0"/>
    </collision>
  </link>
  <joint name="RThumb1" type="revolute">
    <parent link="r_wrist"/>
    <child link="RThumb1_link"/>
    <origin rpy="-1.5708 0.0472984 -3.26826e-08" xyz="0.04895 0 -0.02638"/>
    <axis xyz="0 0 1.0"/>
    <mimic joint="RHand" multiplier="0.999899" offset="0"/>
    <limit effort="0.144" lower="0.0" upper="0.999899" velocity="12.56"/>
  </joint>
  <link name="RThumb2_link">
    <inertial>
      <mass value="2e-06"/>
      <inertia ixx="1.1e-09" ixy="0" ixz="0" iyy="1.1e-09" iyz="0" izz="1.1e-09"/>
      <origin rpy="1.57 0 -0.999899" xyz="0 0 0"/>
      <!-- <origin rpy="1.57 0 0" xyz="0 0 0"/> -->
    </inertial>
    <visual>
      <geometry>
        <mesh filename="meshes/RThumb2.obj" scale="0.1 0.1 0.1"/>
      </geometry>
      <origin rpy="1.57 0 -0.999899" xyz="0 0 0"/>
      <!-- <origin rpy="1.57 0 0" xyz="0 0 0"/> -->
      <material name="Grey"/>
    </visual>
    <collision>
      <geometry>
        <mesh filename="meshes/RThumb2_0.10.stl" scale="0.1 0.1 0.1"/>
      </geometry>
      <origin rpy="1.57 0 -0.999899" xyz="0 0 0"/>
      <!-- <origin rpy="1.57 0 0" xyz="0 0 0"/> -->
    </collision>
  </link>
  <joint name="RThumb2" type="revolute">
    <parent link="RThumb1_link"/>
    <child link="RThumb2_link"/>
    <!-- <origin rpy="0 0 -0.999899" xyz="0.01436 0 0"/> -->
    <origin rpy="0 0 -0.999899" xyz="0.01236 -0.0015 0"/>
    <axis xyz="0 0 1.0"/>
    <mimic joint="RHand" multiplier="0.999899" offset="0"/>
    <limit effort="0.144" lower="0.0" upper="0.999899" velocity="12.56"/>
  </joint>
  <link name="LThumb2_link">
    <inertial>
      <mass value="2e-06"/>
      <inertia ixx="1.1e-09" ixy="0" ixz="0" iyy="1.1e-09" iyz="0" izz="1.1e-09"/>
      <!-- <origin rpy="0 0 0" xyz="0 0 0"/> -->
      <origin rpy="1.57 0 -0.999899" xyz="0 0 0"/>
    </inertial>
    <visual>
      <geometry>
        <mesh filename="meshes/LThumb2.obj" scale="0.1 0.1 0.1"/>
      </geometry>
      <!-- <origin rpy="0 0 0" xyz="0 0 0"/> -->
      <origin rpy="1.57 0 -0.999899" xyz="0 0 0"/>
      <material name="Grey"/>
    </visual>
    <collision>
      <geometry>
        <mesh filename="meshes/LThumb2_0.10.stl" scale="0.1 0.1 0.1"/>
      </geometry>
      <!-- <origin rpy="0 0 0" xyz="0 0 0"/> -->
      <origin rpy="1.57 0 -0.999899" xyz="0 0 0"/>
    </collision>
  </link>
  <joint name="LThumb2" type="revolute">
    <parent link="LThumb1_link"/>
    <child link="LThumb2_link"/>
    <!-- <origin rpy="0 0 -0.999899" xyz="0.01436 0 0"/> -->
    <origin rpy="0 0 -0.999899" xyz="0.01236 -0.0015 0"/>
    <axis xyz="0 0 1.0"/>
    <mimic joint="LHand" multiplier="0.999899" offset="0"/>
    <limit effort="0.144" lower="0.0" upper="0.999899" velocity="12.56"/>
  </joint>

  <!-- HEAD -->
  <transmission name="HeadYaw_Transmission">
    <type>transmission_interface/SimpleTransmission</type>
    <joint name="HeadYaw">
      <hardwareInterface>PositionJointInterface</hardwareInterface>
    </joint>
    <actuator name="HeadYaw_Motor">
      <!-- Dummy Values -->
      <hardwareInterface>PositionJointInterface</hardwareInterface>
      <mechanicalReduction>150.27</mechanicalReduction>
    </actuator>
  </transmission>
  <transmission name="HeadPitch_Transmission">
    <type>transmission_interface/SimpleTransmission</type>
    <joint name="HeadPitch">
      <hardwareInterface>PositionJointInterface</hardwareInterface>
    </joint>
    <actuator name="HeadPitch_Motor">
      <!-- Dummy Values -->
      <hardwareInterface>PositionJointInterface</hardwareInterface>
      <mechanicalReduction>173.22</mechanicalReduction>
    </actuator>
  </transmission>
  <transmission name="LShoulderPitch_Transmission">
    <type>transmission_interface/SimpleTransmission</type>
    <joint name="LShoulderPitch">
      <hardwareInterface>PositionJointInterface</hardwareInterface>
    </joint>
    <actuator name="LShoulderPitch_Motor">
      <hardwareInterface>PositionJointInterface</hardwareInterface>
      <mechanicalReduction>150.27</mechanicalReduction>
    </actuator>
  </transmission>
  <transmission name="LShoulderRoll_Transmission">
    <type>transmission_interface/SimpleTransmission</type>
    <joint name="LShoulderRoll">
      <hardwareInterface>PositionJointInterface</hardwareInterface>
    </joint>
    <actuator name="LShoulderRoll_Motor">
      <hardwareInterface>PositionJointInterface</hardwareInterface>
      <mechanicalReduction>173.22</mechanicalReduction>
    </actuator>
  </transmission>
  <transmission name="LElbowYaw_Transmission">
    <type>transmission_interface/SimpleTransmission</type>
    <joint name="LElbowYaw">
      <hardwareInterface>PositionJointInterface</hardwareInterface>
    </joint>
    <actuator name="LElbowYaw_Motor">
      <hardwareInterface>PositionJointInterface</hardwareInterface>
      <mechanicalReduction>150.27</mechanicalReduction>
    </actuator>
  </transmission>
  <transmission name="LElbowRoll_Transmission">
    <type>transmission_interface/SimpleTransmission</type>
    <joint name="LElbowRoll">
      <hardwareInterface>PositionJointInterface</hardwareInterface>
    </joint>
    <actuator name="LElbowRoll_Motor">
      <hardwareInterface>PositionJointInterface</hardwareInterface>
      <mechanicalReduction>173.22</mechanicalReduction>
    </actuator>
  </transmission>
  <transmission name="LWristYaw_Transmission">
    <type>transmission_interface/SimpleTransmission</type>
    <joint name="LWristYaw">
      <hardwareInterface>PositionJointInterface</hardwareInterface>
    </joint>
    <actuator name="LWristYaw_Motor">
      <hardwareInterface>PositionJointInterface</hardwareInterface>
      <mechanicalReduction>50.61</mechanicalReduction>
    </actuator>
  </transmission>
  <transmission name="LHand_Transmission">
    <type>transmission_interface/SimpleTransmission</type>
    <joint name="LHand">
      <hardwareInterface>PositionJointInterface</hardwareInterface>
    </joint>
    <actuator name="LHand_Motor">
      <hardwareInterface>PositionJointInterface</hardwareInterface>
      <mechanicalReduction>36.24</mechanicalReduction>
    </actuator>
  </transmission>
  <transmission name="RShoulderPitch_Transmission">
    <type>transmission_interface/SimpleTransmission</type>
    <joint name="RShoulderPitch">
      <hardwareInterface>PositionJointInterface</hardwareInterface>
    </joint>
    <actuator name="RShoulderPitch_Motor">
      <hardwareInterface>PositionJointInterface</hardwareInterface>
      <mechanicalReduction>150.27</mechanicalReduction>
    </actuator>
  </transmission>
  <transmission name="RShoulderRoll_Transmission">
    <type>transmission_interface/SimpleTransmission</type>
    <joint name="RShoulderRoll">
      <hardwareInterface>PositionJointInterface</hardwareInterface>
    </joint>
    <actuator name="RShoulderRoll_Motor">
      <hardwareInterface>PositionJointInterface</hardwareInterface>
      <mechanicalReduction>173.22</mechanicalReduction>
    </actuator>
  </transmission>
  <transmission name="RElbowYaw_Transmission">
    <type>transmission_interface/SimpleTransmission</type>
    <joint name="RElbowYaw">
      <hardwareInterface>PositionJointInterface</hardwareInterface>
    </joint>
    <actuator name="RElbowYaw_Motor">
      <hardwareInterface>PositionJointInterface</hardwareInterface>
      <mechanicalReduction>150.27</mechanicalReduction>
    </actuator>
  </transmission>
  <transmission name="RElbowRoll_Transmission">
    <type>transmission_interface/SimpleTransmission</type>
    <joint name="RElbowRoll">
      <hardwareInterface>PositionJointInterface</hardwareInterface>
    </joint>
    <actuator name="RElbowRoll_Motor">
      <hardwareInterface>PositionJointInterface</hardwareInterface>
      <mechanicalReduction>173.22</mechanicalReduction>
    </actuator>
  </transmission>
  <transmission name="RWristYaw_Transmission">
    <type>transmission_interface/SimpleTransmission</type>
    <joint name="RWristYaw">
      <hardwareInterface>PositionJointInterface</hardwareInterface>
    </joint>
    <actuator name="RWristYaw_Motor">
      <hardwareInterface>PositionJointInterface</hardwareInterface>
      <mechanicalReduction>50.61</mechanicalReduction>
    </actuator>
  </transmission>
  <transmission name="RHand_Transmission">
    <type>transmission_interface/SimpleTransmission</type>
    <joint name="RHand">
      <hardwareInterface>PositionJointInterface</hardwareInterface>
    </joint>
    <actuator name="RHand_Motor">
      <hardwareInterface>PositionJointInterface</hardwareInterface>
      <mechanicalReduction>36.24</mechanicalReduction>
    </actuator>
  </transmission>
  <transmission name="LHipYawPitch_Transmission">
    <type>transmission_interface/SimpleTransmission</type>
    <joint name="LHipYawPitch">
      <hardwareInterface>PositionJointInterface</hardwareInterface>
    </joint>
    <actuator name="LHipYawPitch_Motor">
      <!-- Dummy Values -->
      <hardwareInterface>PositionJointInterface</hardwareInterface>
      <mechanicalReduction>201.3</mechanicalReduction>
    </actuator>
  </transmission>
  <transmission name="LHipRoll_Transmission">
    <type>transmission_interface/SimpleTransmission</type>
    <joint name="LHipRoll">
      <hardwareInterface>PositionJointInterface</hardwareInterface>
    </joint>
    <actuator name="LHipRoll_Motor">
      <!-- Dummy Values -->
      <hardwareInterface>PositionJointInterface</hardwareInterface>
      <mechanicalReduction>201.3</mechanicalReduction>
    </actuator>
  </transmission>
  <transmission name="LHipPitch_Transmission">
    <type>transmission_interface/SimpleTransmission</type>
    <joint name="LHipPitch">
      <hardwareInterface>PositionJointInterface</hardwareInterface>
    </joint>
    <actuator name="LHipPitch_Motor">
      <!-- Dummy Values -->
      <hardwareInterface>PositionJointInterface</hardwareInterface>
      <mechanicalReduction>130.85</mechanicalReduction>
    </actuator>
  </transmission>
  <transmission name="LKneePitch_Transmission">
    <type>transmission_interface/SimpleTransmission</type>
    <joint name="LKneePitch">
      <hardwareInterface>PositionJointInterface</hardwareInterface>
    </joint>
    <actuator name="LKneePitch_Motor">
      <!-- Dummy Values -->
      <hardwareInterface>PositionJointInterface</hardwareInterface>
      <mechanicalReduction>130.85</mechanicalReduction>
    </actuator>
  </transmission>
  <transmission name="LAnklePitch_Transmission">
    <type>transmission_interface/SimpleTransmission</type>
    <joint name="LAnklePitch">
      <hardwareInterface>PositionJointInterface</hardwareInterface>
    </joint>
    <actuator name="LAnklePitch_Motor">
      <!-- Dummy Values -->
      <hardwareInterface>PositionJointInterface</hardwareInterface>
      <mechanicalReduction>130.85</mechanicalReduction>
    </actuator>
  </transmission>
  <transmission name="LAnkleRoll_Transmission">
    <type>transmission_interface/SimpleTransmission</type>
    <joint name="LAnkleRoll">
      <hardwareInterface>PositionJointInterface</hardwareInterface>
    </joint>
    <actuator name="LAnkleRoll_Motor">
      <!-- Dummy Values -->
      <hardwareInterface>PositionJointInterface</hardwareInterface>
      <mechanicalReduction>201.3</mechanicalReduction>
    </actuator>
  </transmission>
  <transmission name="RHipYawPitch_Transmission">
    <type>transmission_interface/SimpleTransmission</type>
    <joint name="RHipYawPitch">
      <hardwareInterface>PositionJointInterface</hardwareInterface>
    </joint>
    <actuator name="RHipYawPitch_Motor">
      <!-- Dummy Values -->
      <hardwareInterface>PositionJointInterface</hardwareInterface>
      <mechanicalReduction>201.3</mechanicalReduction>
    </actuator>
  </transmission>
  <transmission name="RHipRoll_Transmission">
    <type>transmission_interface/SimpleTransmission</type>
    <joint name="RHipRoll">
      <hardwareInterface>PositionJointInterface</hardwareInterface>
    </joint>
    <actuator name="RHipRoll_Motor">
      <!-- Dummy Values -->
      <hardwareInterface>PositionJointInterface</hardwareInterface>
      <mechanicalReduction>201.3</mechanicalReduction>
    </actuator>
  </transmission>
  <transmission name="RHipPitch_Transmission">
    <type>transmission_interface/SimpleTransmission</type>
    <joint name="RHipPitch">
      <hardwareInterface>PositionJointInterface</hardwareInterface>
    </joint>
    <actuator name="RHipPitch_Motor">
      <!-- Dummy Values -->
      <hardwareInterface>PositionJointInterface</hardwareInterface>
      <mechanicalReduction>130.85</mechanicalReduction>
    </actuator>
  </transmission>
  <transmission name="RKneePitch_Transmission">
    <type>transmission_interface/SimpleTransmission</type>
    <joint name="RKneePitch">
      <hardwareInterface>PositionJointInterface</hardwareInterface>
    </joint>
    <actuator name="RKneePitch_Motor">
      <!-- Dummy Values -->
      <hardwareInterface>PositionJointInterface</hardwareInterface>
      <mechanicalReduction>130.85</mechanicalReduction>
    </actuator>
  </transmission>
  <transmission name="RAnklePitch_Transmission">
    <type>transmission_interface/SimpleTransmission</type>
    <joint name="RAnklePitch">
      <hardwareInterface>PositionJointInterface</hardwareInterface>
    </joint>
    <actuator name="RAnklePitch_Motor">
      <!-- Dummy Values -->
      <hardwareInterface>PositionJointInterface</hardwareInterface>
      <mechanicalReduction>130.85</mechanicalReduction>
    </actuator>
  </transmission>
  <transmission name="RAnkleRoll_Transmission">
    <type>transmission_interface/SimpleTransmission</type>
    <joint name="RAnkleRoll">
      <hardwareInterface>PositionJointInterface</hardwareInterface>
    </joint>
    <actuator name="RAnkleRoll_Motor">
      <!-- Dummy Values -->
      <hardwareInterface>PositionJointInterface</hardwareInterface>
      <mechanicalReduction>201.3</mechanicalReduction>
    </actuator>
  </transmission>
</robot>
